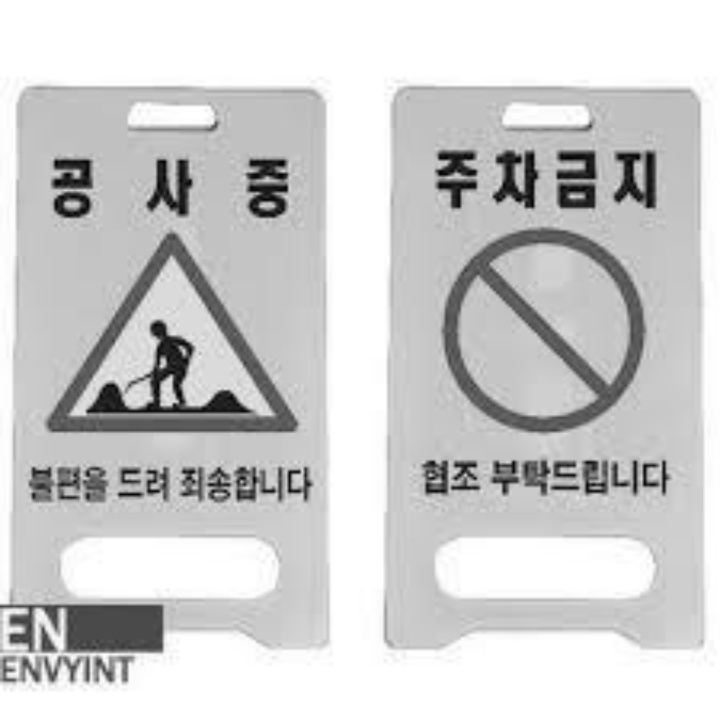const: (78, 297, 262, 429)
